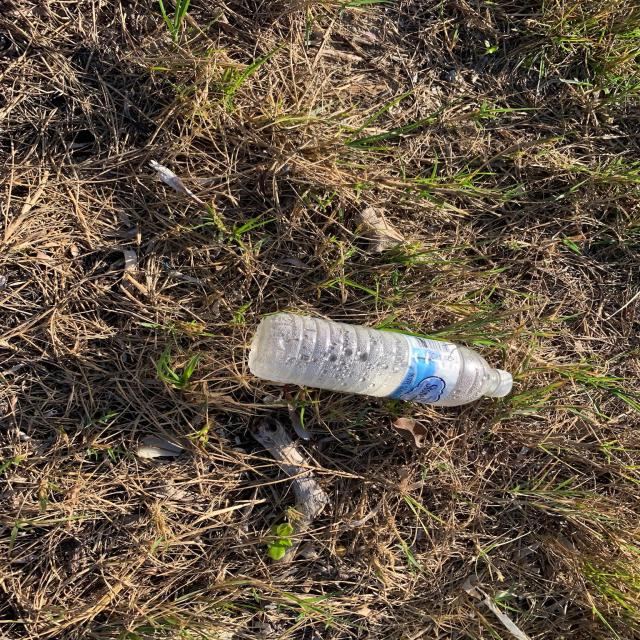litter: (247, 313, 501, 407), (385, 333, 459, 406), (491, 369, 512, 398)
